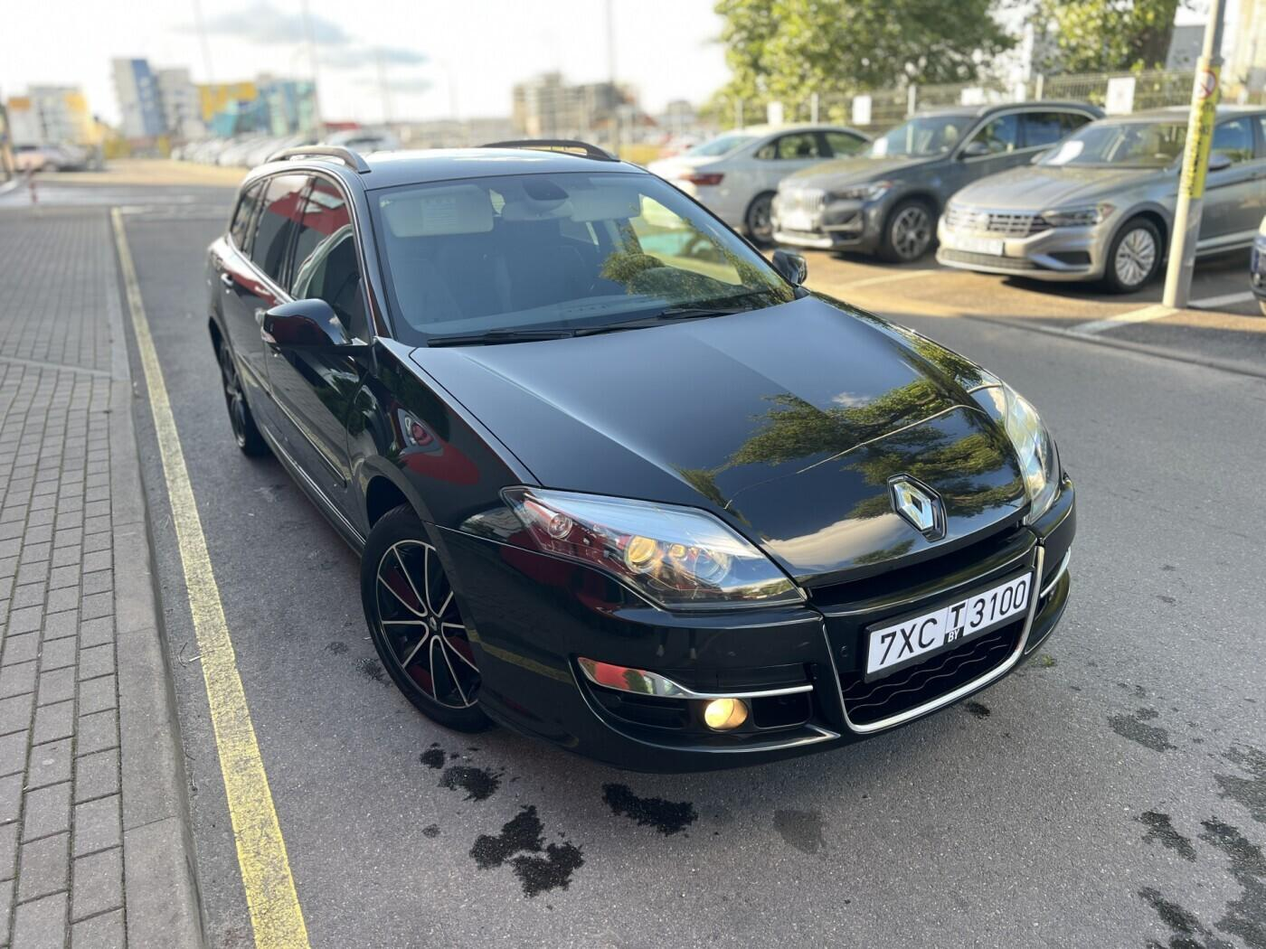Laguna_2010-2015: (205, 133, 1080, 786)
